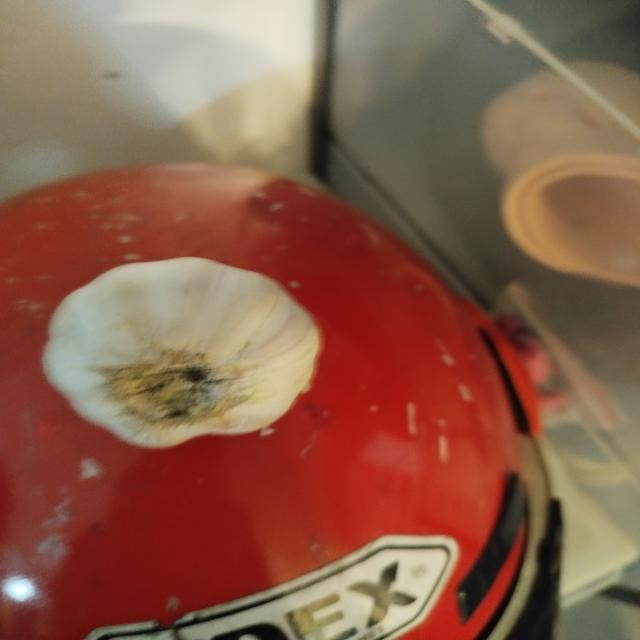garlic: (41, 256, 322, 450)
